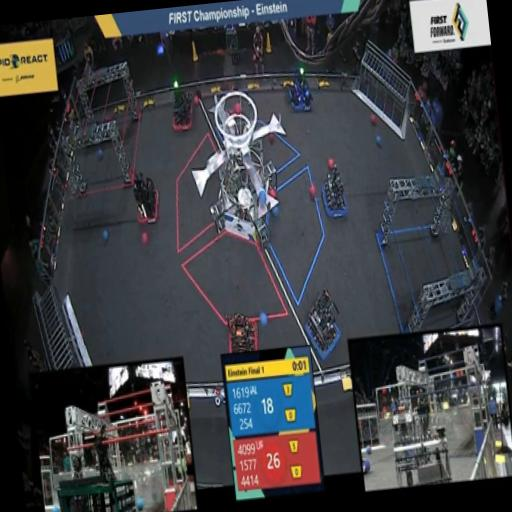robot: (300, 284, 346, 366), (125, 166, 165, 236), (314, 159, 352, 225), (279, 58, 316, 120), (220, 306, 264, 355), (164, 80, 200, 136)
